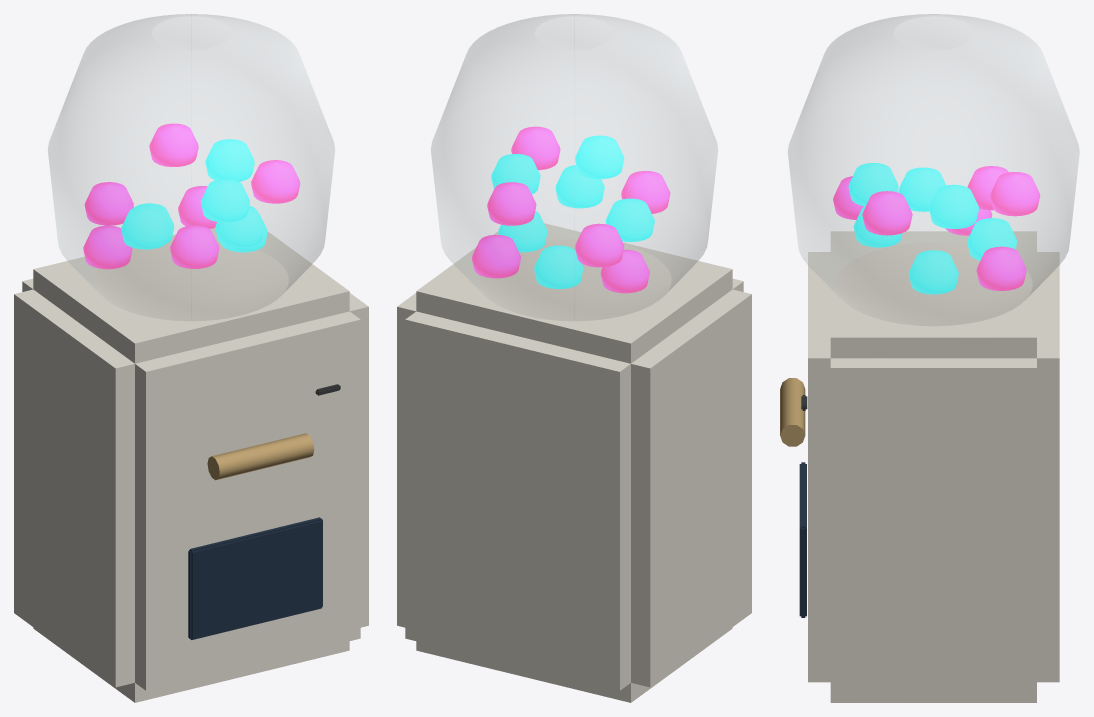
The model's file is fixture_v25_capsule.glb.
3 renders of one model, left to right at view 1: azimuth 30°, elevation 25°; view 2: azimuth 150°, elevation 25°; view 3: azimuth 270°, elevation 25°, orthographic.
Parts seen in each view (by area): view 1: fixture_v25_capsule_V25_satin_ivory, fixture_v25_capsule_Shop_display_glass, fixture_v25_capsule_V25_arcade_navy, fixture_v25_capsule_V25_neon_pink, fixture_v25_capsule_V25_neon_cyan, fixture_v25_capsule_Satin_champagne; view 2: fixture_v25_capsule_V25_satin_ivory, fixture_v25_capsule_Shop_display_glass, fixture_v25_capsule_V25_neon_pink, fixture_v25_capsule_V25_neon_cyan; view 3: fixture_v25_capsule_V25_satin_ivory, fixture_v25_capsule_Shop_display_glass, fixture_v25_capsule_V25_neon_cyan, fixture_v25_capsule_V25_neon_pink, fixture_v25_capsule_Satin_champagne, fixture_v25_capsule_V25_arcade_navy.
Part boxes in pixels (left/top/right/bottom): fixture_v25_capsule_V25_satin_ivory: left=14, top=228, right=368, bottom=702; fixture_v25_capsule_Shop_display_glass: left=48, top=14, right=334, bottom=320; fixture_v25_capsule_V25_arcade_navy: left=188, top=517, right=322, bottom=639; fixture_v25_capsule_V25_neon_pink: left=83, top=123, right=300, bottom=269; fixture_v25_capsule_V25_neon_cyan: left=121, top=139, right=267, bottom=252; fixture_v25_capsule_Satin_champagne: left=207, top=433, right=314, bottom=480; fixture_v25_capsule_V25_satin_ivory: left=397, top=223, right=751, bottom=702; fixture_v25_capsule_Shop_display_glass: left=431, top=14, right=717, bottom=320; fixture_v25_capsule_V25_neon_pink: left=472, top=126, right=670, bottom=293; fixture_v25_capsule_V25_neon_cyan: left=491, top=135, right=654, bottom=288; fixture_v25_capsule_V25_satin_ivory: left=808, top=231, right=1059, bottom=702; fixture_v25_capsule_Shop_display_glass: left=788, top=14, right=1079, bottom=325; fixture_v25_capsule_V25_neon_cyan: left=848, top=163, right=1017, bottom=294; fixture_v25_capsule_V25_neon_pink: left=833, top=166, right=1040, bottom=290; fixture_v25_capsule_Satin_champagne: left=780, top=378, right=805, bottom=446; fixture_v25_capsule_V25_arcade_navy: left=799, top=462, right=806, bottom=617.
Size of the model in its own units: 0.59 by 1.35 by 0.595.
